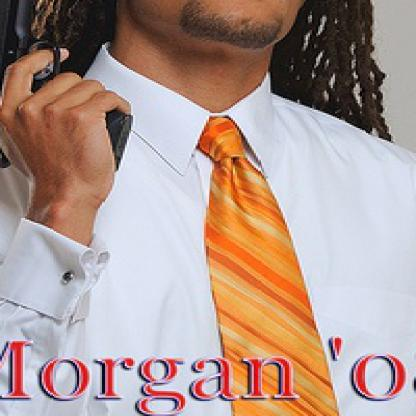gun: (0, 0, 138, 174)
